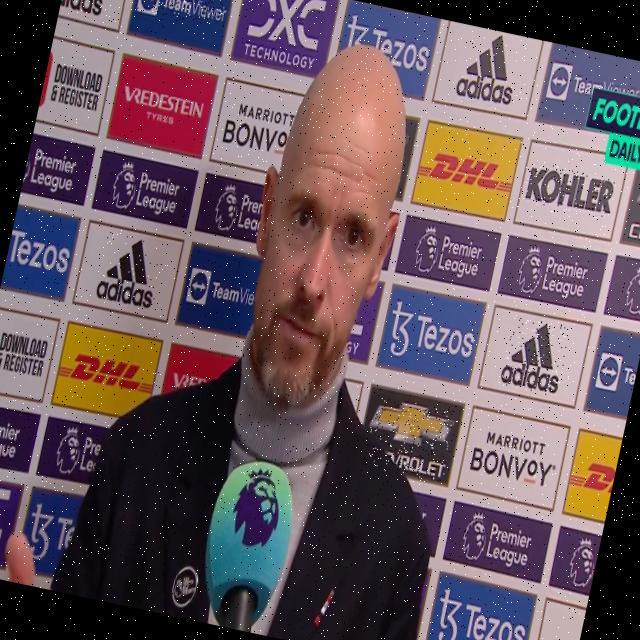Adidas: (498, 314, 572, 397), (94, 230, 166, 312), (454, 30, 524, 108)
Chevrolet: (362, 395, 458, 484)
Kohler: (523, 161, 618, 220)
TeamViewer: (134, 0, 231, 28)
